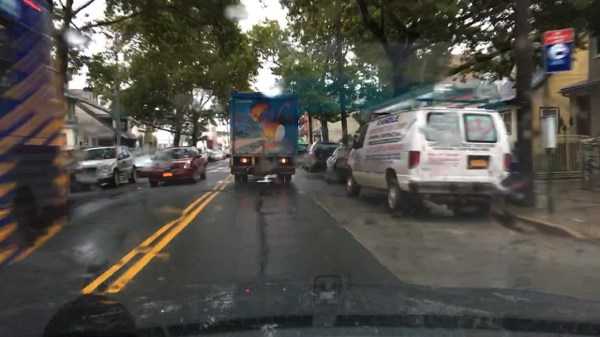bus: (0, 0, 85, 269)
car: (341, 106, 515, 217), (72, 146, 137, 189), (148, 146, 207, 188), (302, 141, 342, 174), (323, 145, 352, 185), (130, 149, 156, 178), (297, 143, 308, 166), (207, 150, 227, 162), (197, 148, 208, 164)
truck: (228, 90, 299, 183)
